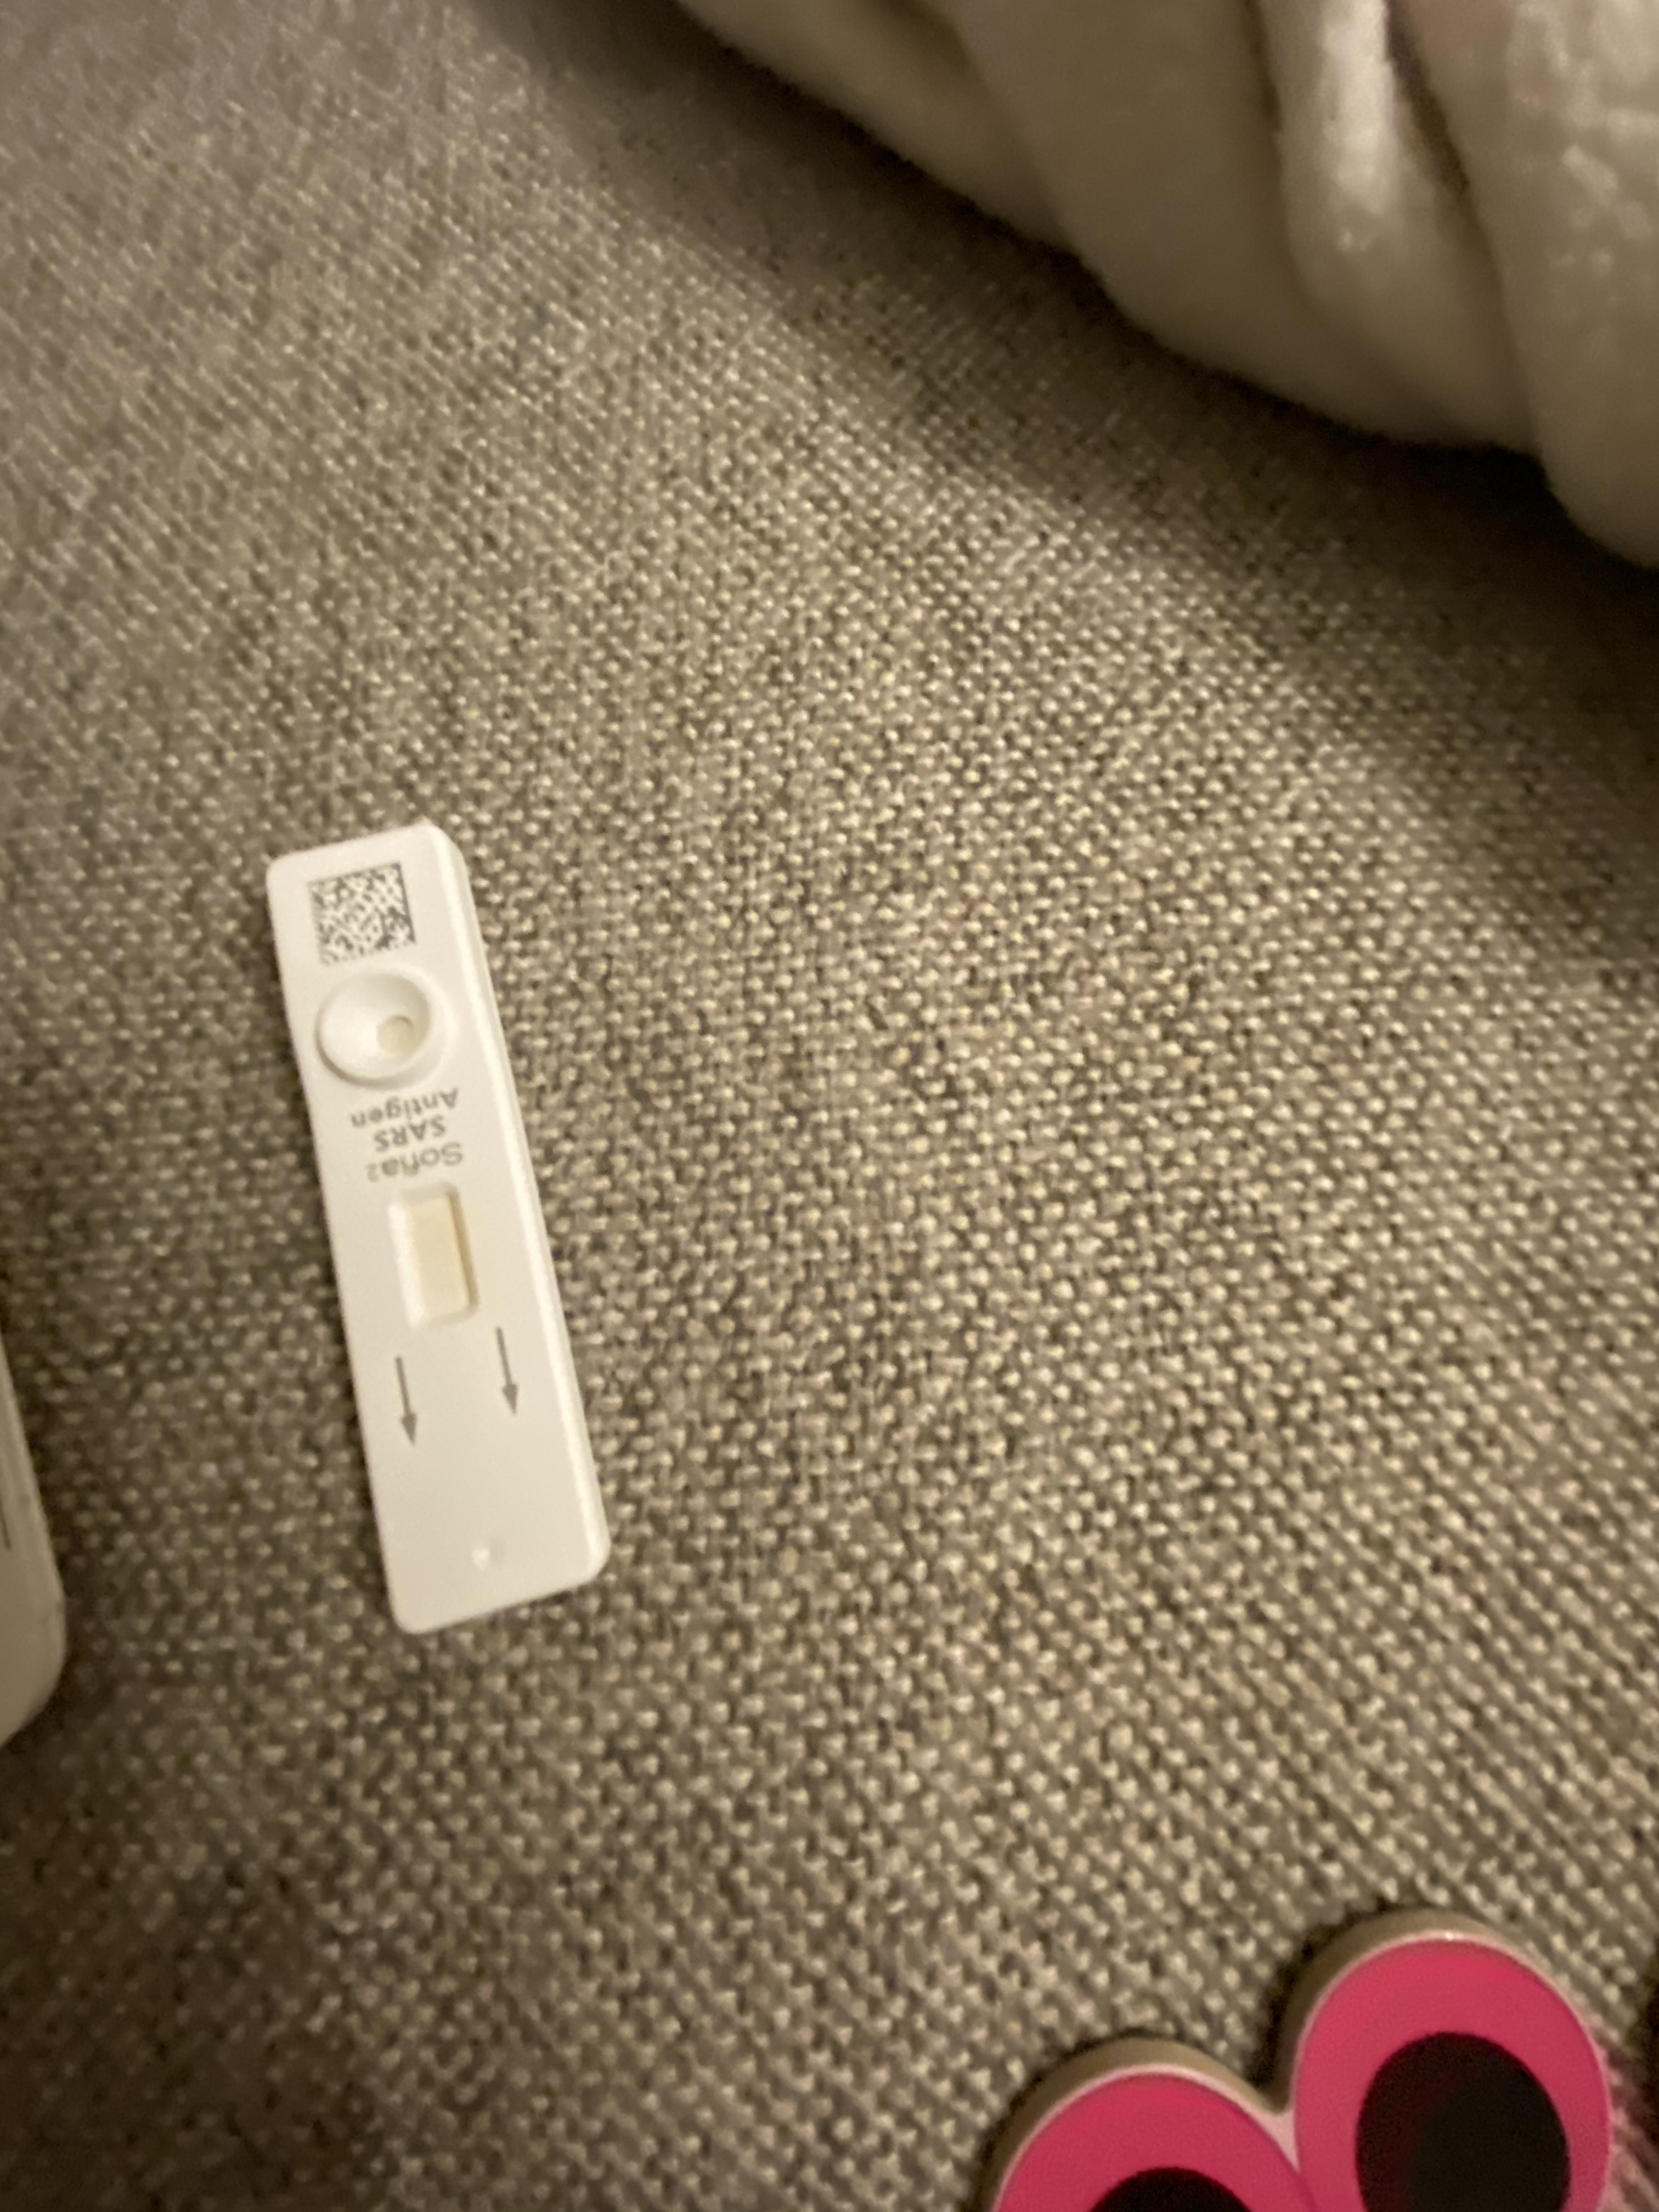quidel: (251, 815, 626, 1646)
